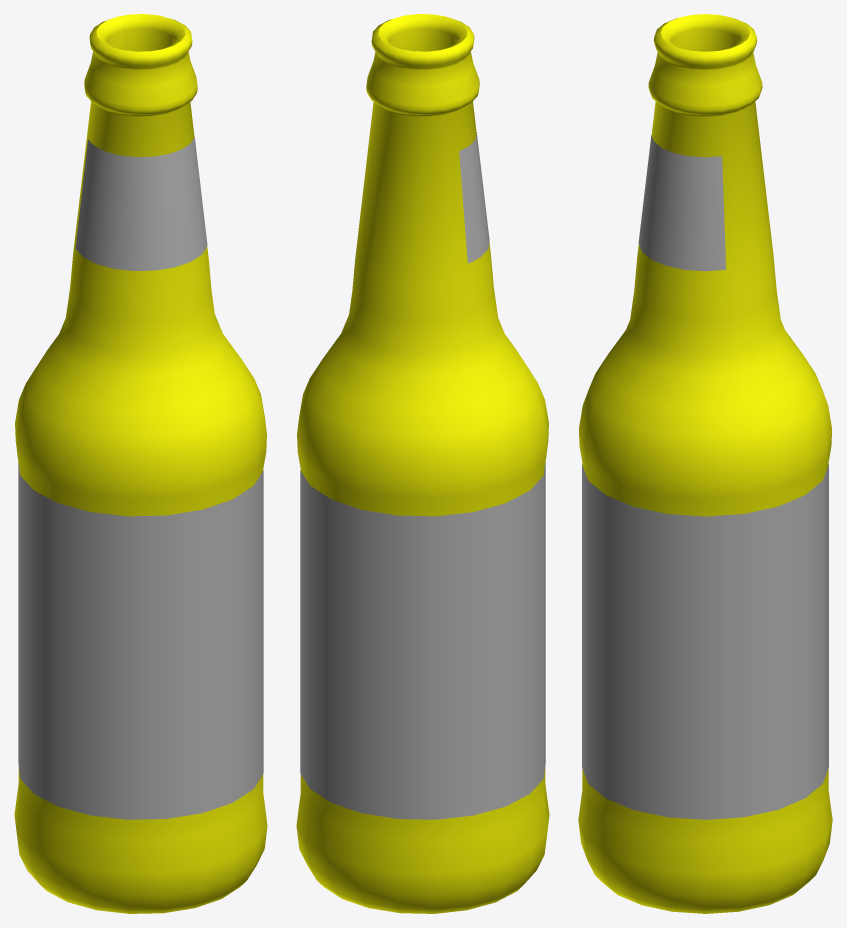
File: chaibia.glb
The picture shows the model from 3 angles, left to right: view 1: azimuth 30°, elevation 25°; view 2: azimuth 150°, elevation 25°; view 3: azimuth 270°, elevation 25°; orthographic projection.
Visible parts, largest first — view 1: bottle1.001, label.001, logo_label.001; view 2: bottle1.001, label.001, logo_label.001; view 3: bottle1.001, label.001, logo_label.001.
Part boxes in pixels (box(x1,y1,x2,y2)): bottle1.001: box(14, 14, 267, 913); label.001: box(18, 462, 263, 819); logo_label.001: box(75, 137, 207, 270); bottle1.001: box(296, 14, 549, 913); label.001: box(300, 462, 545, 819); logo_label.001: box(459, 132, 489, 263); bottle1.001: box(578, 14, 832, 913); label.001: box(582, 464, 828, 819); logo_label.001: box(638, 135, 726, 271).
Bounding box in the file's own units: 0.0209 × 0.076 × 0.0209.
4 materials, 1 textured.
